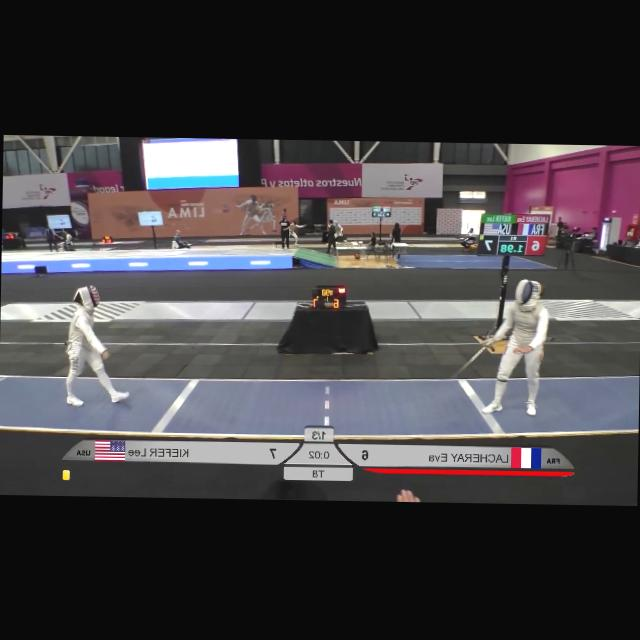blade: (443, 339, 492, 388)
